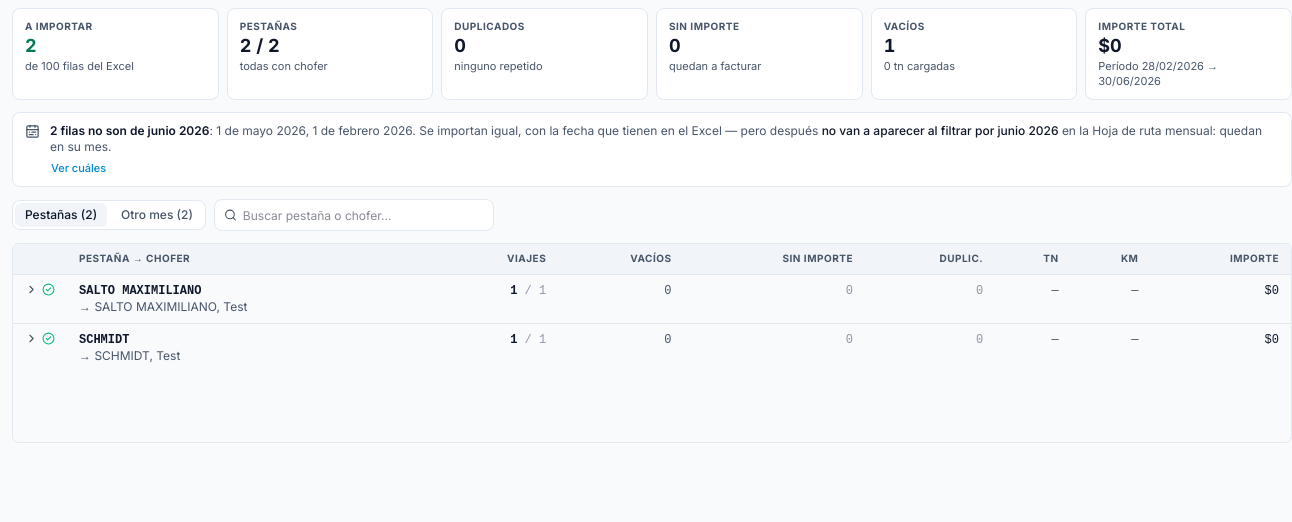
aviso de filas fuera del mes del archivo › «Ver cuáles» abre la lista con la fecha y el mes de destino de cada fila
This screenshot has width=1292, height=522.
Click the button "Ver cuáles" at {"x": 79, "y": 169}, box x1=51 y1=161 x2=106 y2=176
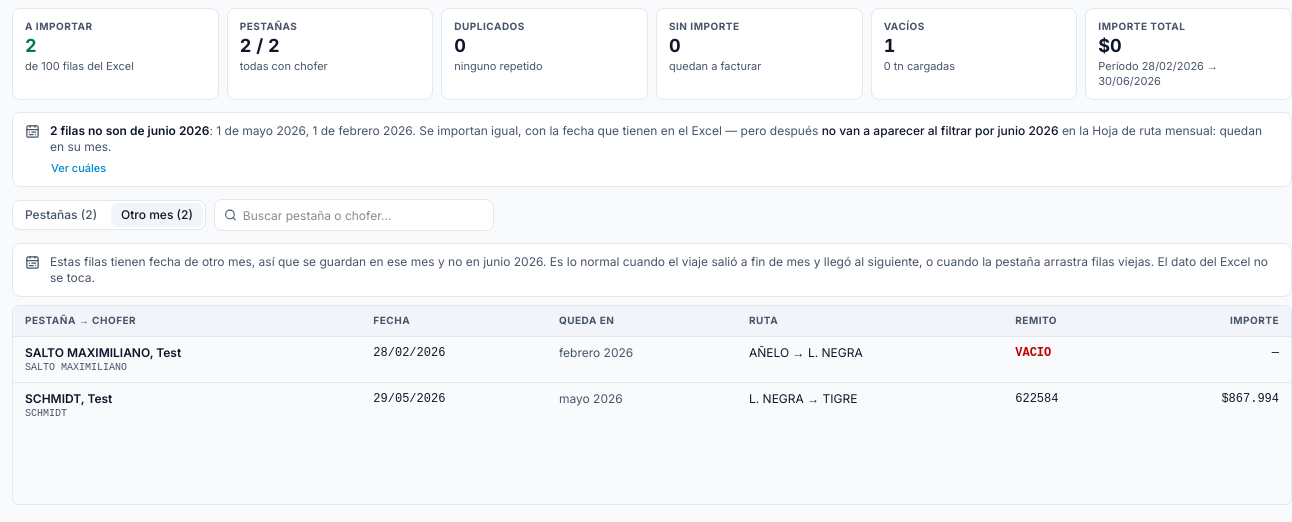
Check: the text "28/02/2026" is shown, box x1=361 y1=336 x2=547 y2=382
Check: the text "29/05/2026" is shown, box x1=361 y1=382 x2=547 y2=428
Check: the text "febrero 2026" is shown, box x1=547 y1=336 x2=737 y2=382
